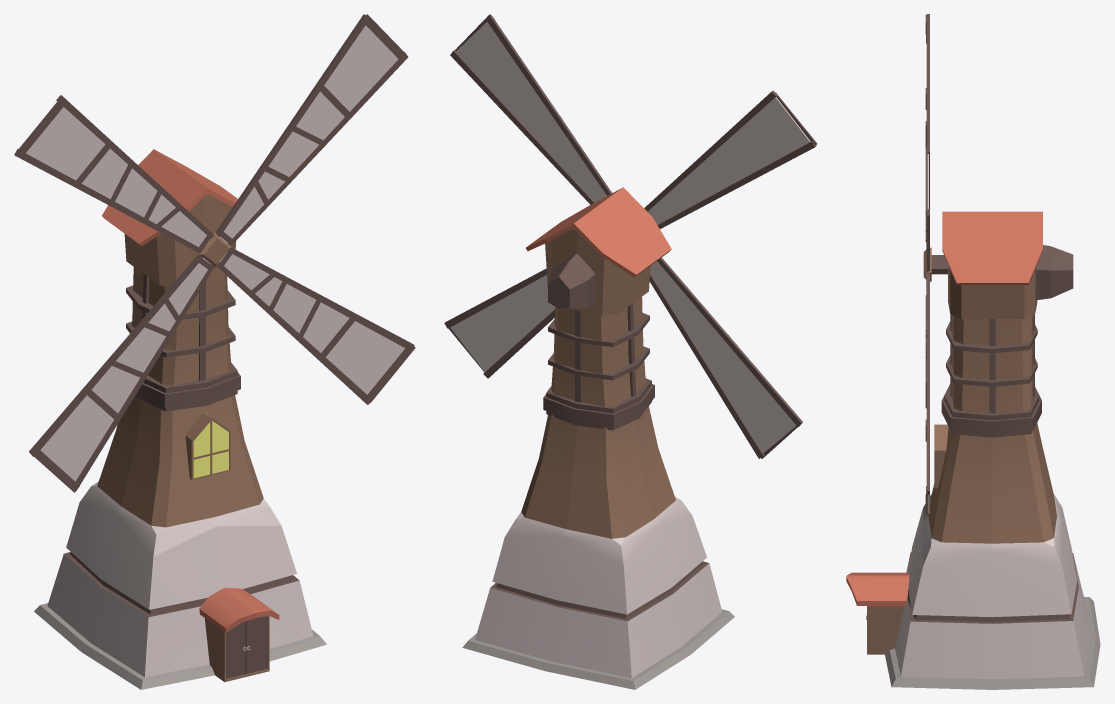
File: mesh_Windmill.fbx
3 views of the same model, side by side, from view 1: azimuth 30°, elevation 25°; view 2: azimuth 150°, elevation 25°; view 3: azimuth 270°, elevation 25° (orthographic). The views are drawn at different scales.
Parts seen in each view (by area): view 1: BAse_Mill, wind_mill; view 2: BAse_Mill, wind_mill; view 3: BAse_Mill, wind_mill.
Boxes of the visible parts, x1=… form: BAse_Mill: x1=34, y1=149, x2=326, y2=689; wind_mill: x1=14, y1=14, x2=415, y2=492; BAse_Mill: x1=462, y1=187, x2=734, y2=689; wind_mill: x1=444, y1=14, x2=817, y2=458; BAse_Mill: x1=846, y1=211, x2=1100, y2=689; wind_mill: x1=923, y1=14, x2=948, y2=515.
Bounding box in the file's own units: 19.37 × 27.85 × 11.31.
